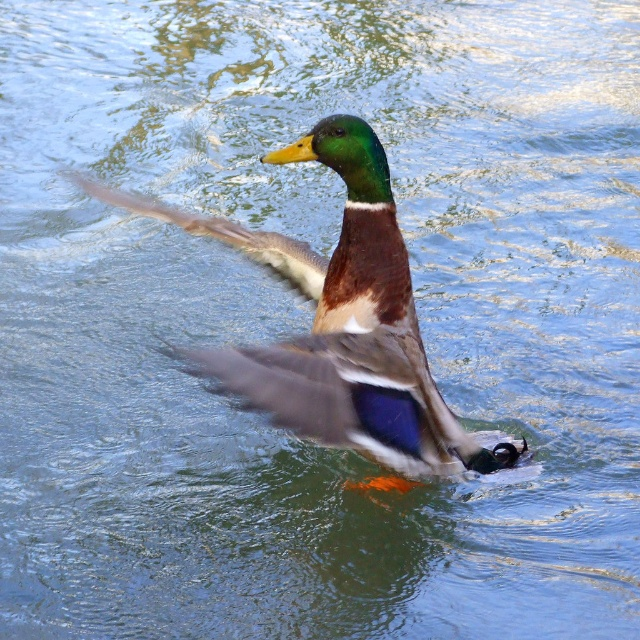Duck: (73, 115, 543, 517)
